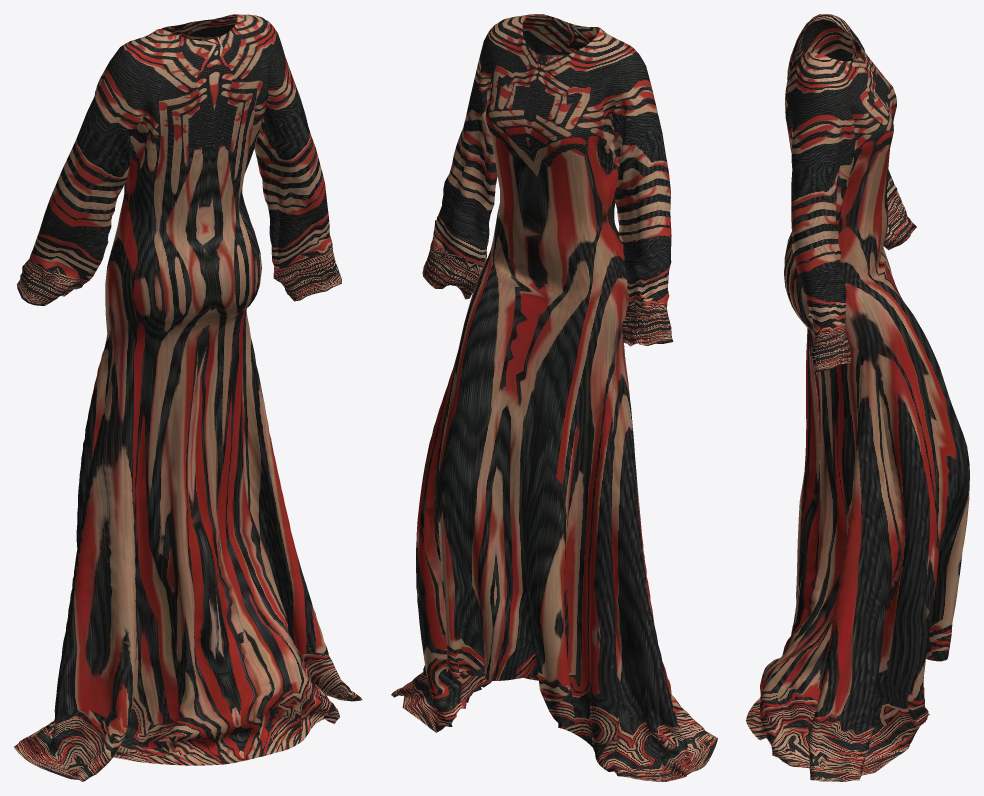
The model's file is garment-female.glb.
3 views of the same model, side by side, from view 1: azimuth 30°, elevation 25°; view 2: azimuth 150°, elevation 25°; view 3: azimuth 270°, elevation 25° (orthographic). The views are drawn at different scales.
Parts seen in each view (by area): view 1: 04_FemaleWearables; view 2: 04_FemaleWearables; view 3: 04_FemaleWearables.
Part boxes in pixels (<box>): 04_FemaleWearables: <box>14,14,362,781</box>; 04_FemaleWearables: <box>391,14,717,781</box>; 04_FemaleWearables: <box>746,14,969,781</box>.
Bounding box in the file's own units: 3.33 × 7.15 × 2.15.
1 material, 1 textured.
